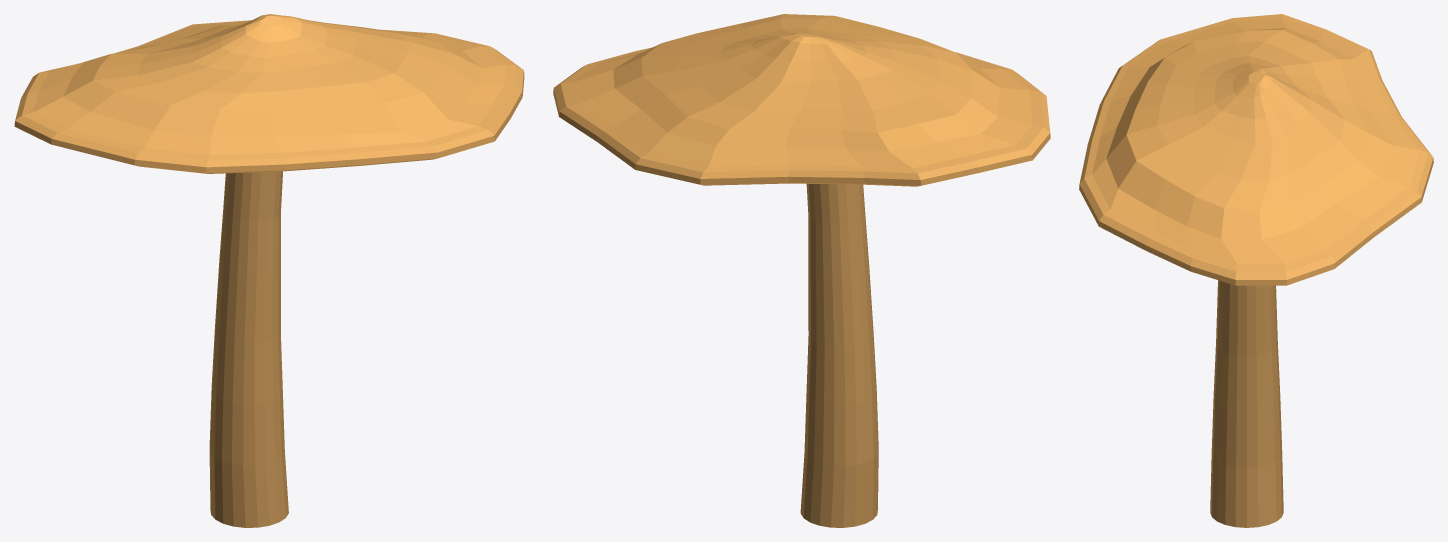
File: Mushroom_Large_01.fbx
3 views of the same model, side by side, from view 1: azimuth 30°, elevation 25°; view 2: azimuth 150°, elevation 25°; view 3: azimuth 270°, elevation 25° (orthographic). The views are drawn at different scales.
Visible parts, largest first — view 1: large_sized_mshrm_01; view 2: large_sized_mshrm_01; view 3: large_sized_mshrm_01.
Part boxes in pixels (x1,y1,x2,y2): large_sized_mshrm_01: (14, 14, 524, 527); large_sized_mshrm_01: (553, 14, 1050, 527); large_sized_mshrm_01: (1079, 14, 1433, 527).
Size of the model in its own units: 23.15 by 22 by 15.75.
Materials: 1 (1 with a texture image).
